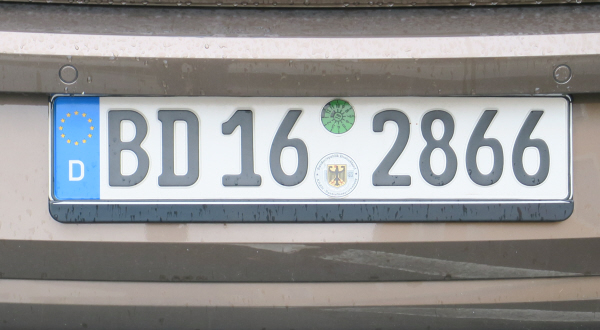license_plate: (46, 93, 574, 206)
